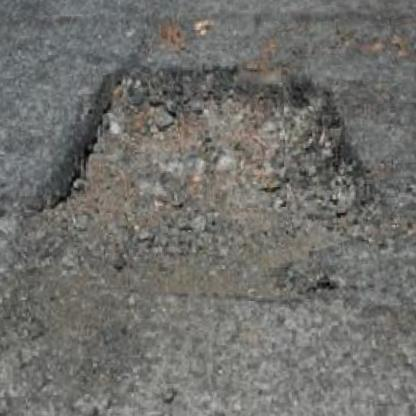pothole: (27, 44, 380, 308)
